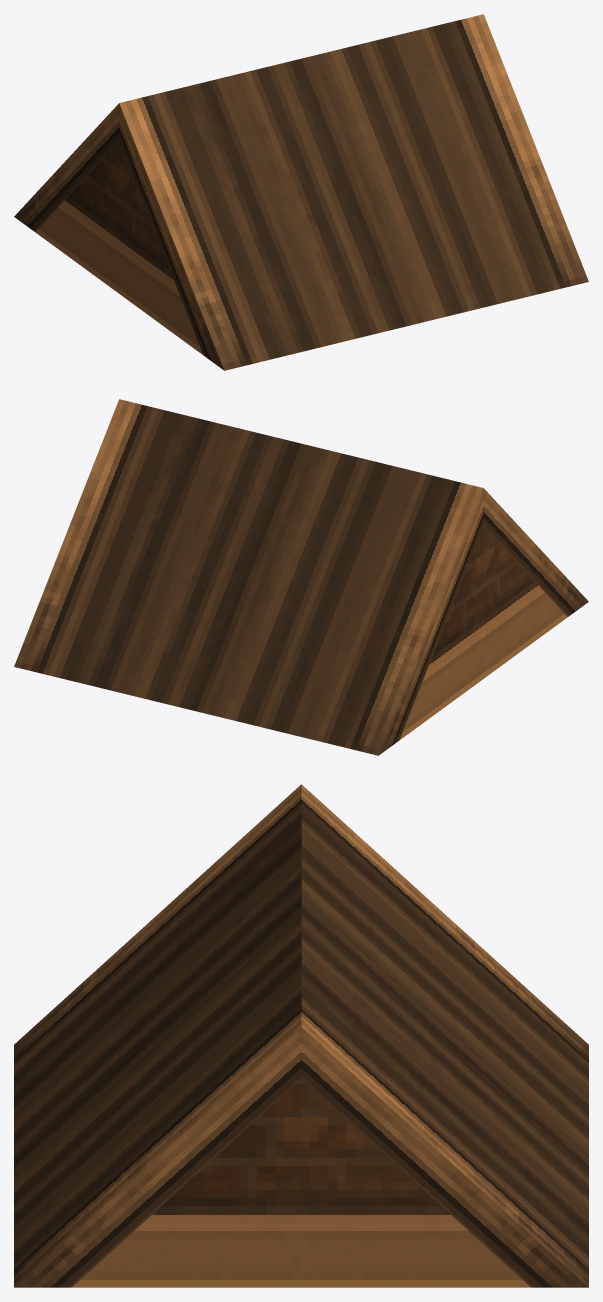
3 views of the same model, one above another, from view 1: azimuth 30°, elevation 25°; view 2: azimuth 150°, elevation 25°; view 3: azimuth 270°, elevation 25° (orthographic). The views are drawn at different scales.
Parts seen in each view (by area): view 1: wall-a-roof; view 2: wall-a-roof; view 3: wall-a-roof.
Boxes of the visible parts, x1,y1,x2,y2 form: wall-a-roof: (14, 14, 588, 370); wall-a-roof: (14, 399, 588, 755); wall-a-roof: (14, 784, 588, 1287).
Bounding box in the file's own units: 1 × 0.5 × 1.
3 materials, 3 textured.
